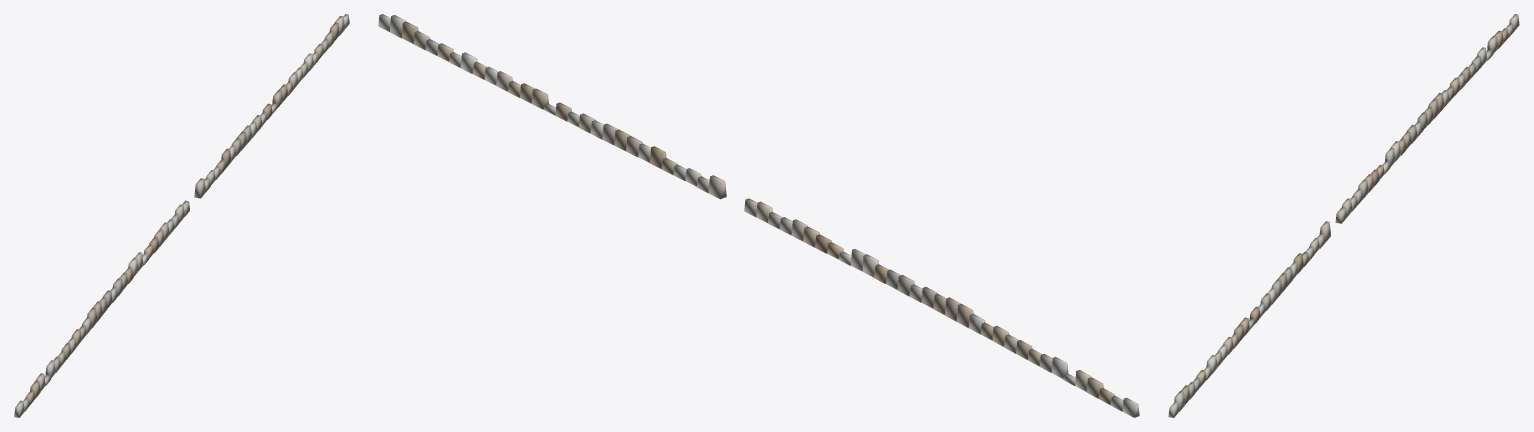
The model's file is farm_11_15_collision.glb.
3 views of the same model, side by side, from view 1: azimuth 90°, elevation 25°; view 2: azimuth 150°, elevation 25°; view 3: azimuth 270°, elevation 25° (orthographic). The views are drawn at different scales.
Parts seen in each view (by area): view 1: geometry_0; view 2: geometry_0; view 3: geometry_0.
Boxes of the visible parts, left/top/right/bottom form: geometry_0: left=14, top=14, right=349, bottom=417; geometry_0: left=378, top=14, right=1139, bottom=417; geometry_0: left=1168, top=14, right=1519, bottom=417.
Bounding box in the file's own units: 95.04 × 2.61 × 34.97.
